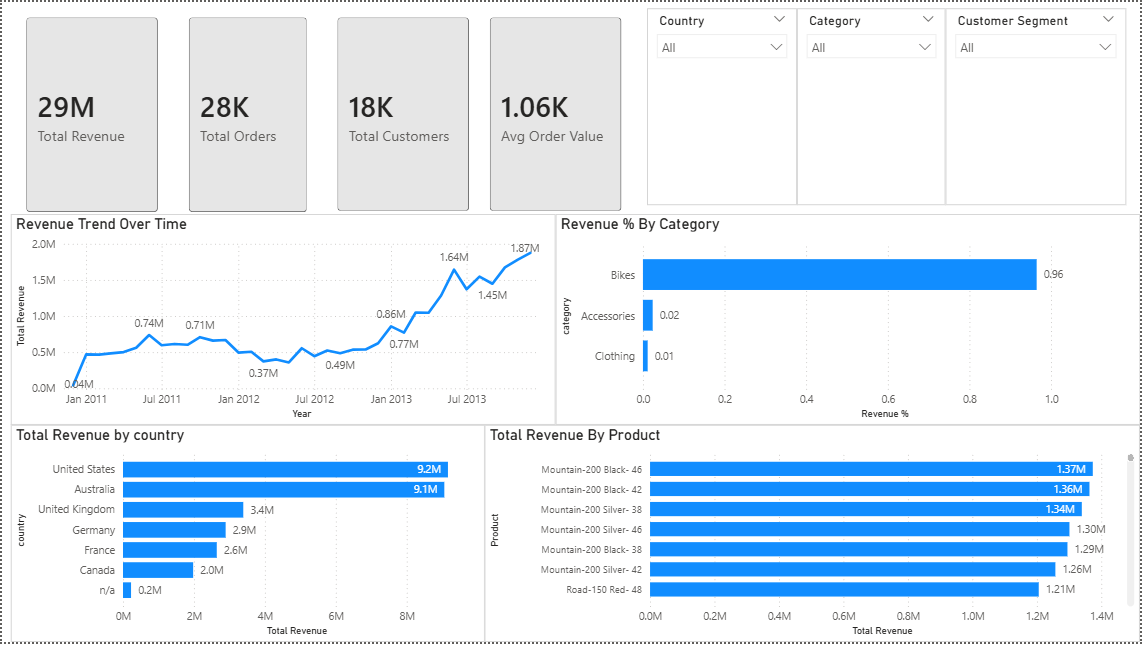

The dashboard page shown, as its layout file describes it:
{"tool":"powerbi","page":{"name":"Exxecutive Overview","canvas":[1280,720],"ordinal":0},"visuals":[{"type":"cardVisual","fields":{"Data":["fact_sales.Total_Revenue"]},"box":[9.9,0,183,253.3],"z":0},{"type":"cardVisual","fields":{"Data":["fact_sales.Total Orders"]},"box":[192.8,0,167.5,253.3],"z":1000},{"type":"cardVisual","fields":{"Data":["fact_sales.Total Customers"]},"box":[360,0,182.9,252.9],"z":2000},{"type":"cardVisual","fields":{"Data":["fact_sales.Avg Order Value"]},"box":[531.4,0,182.9,252.9],"z":3000},{"type":"lineChart","title":"Revenue Trend Over Time","fields":{"Y":["fact_sales.Total Revenue"],"Category":["fact_sales.order_date.Variation.Date Hierarchy.Year","fact_sales.order_date.Variation.Date Hierarchy.Month"]},"box":[10,238.6,612.9,237.1],"z":4000},{"type":"clusteredBarChart","fields":{"Category":["dim_customers.country"],"Y":["fact_sales.Total Revenue"]},"box":[10,475.7,532.9,244.3],"z":5000},{"type":"clusteredBarChart","title":"Total Revenue By Product","fields":{"Category":["dim_products.product_name"],"Y":["fact_sales.Total Revenue"]},"box":[542.9,475.7,737.1,244.3],"z":6000},{"type":"clusteredBarChart","title":"Revenue % By Category","fields":{"Category":["dim_products.category"],"Y":["customer_rfm data.Revenue %"]},"box":[622.9,238.6,657.1,237.1],"z":7000},{"type":"slicer","fields":{"Values":["dim_customers.country"]},"box":[725.7,7.1,168.6,221.4],"z":8000},{"type":"slicer","fields":{"Values":["dim_products.category"]},"box":[894.3,7.1,167.1,221.4],"z":9000},{"type":"slicer","fields":{"Values":["customer_rfm data.segment"]},"box":[1061.4,7.1,202.9,221.4],"z":10000}]}

Visuals, with their boxes in screenshot pixels (x1, y1, x2, y2), scaled from the page's 1280x720 canvas onto the 1143x646 screenshot:
cardVisual - fact_sales.Total_Revenue: bbox=(9, 0, 172, 227)
cardVisual - fact_sales.Total Orders: bbox=(172, 0, 322, 227)
cardVisual - fact_sales.Total Customers: bbox=(321, 0, 485, 227)
cardVisual - fact_sales.Avg Order Value: bbox=(475, 0, 638, 227)
"Revenue Trend Over Time" lineChart: bbox=(9, 214, 556, 427)
clusteredBarChart - dim_customers.country x fact_sales.Total Revenue: bbox=(9, 427, 485, 645)
"Total Revenue By Product" clusteredBarChart: bbox=(485, 427, 1142, 645)
"Revenue % By Category" clusteredBarChart: bbox=(556, 214, 1142, 427)
slicer - dim_customers.country: bbox=(648, 6, 799, 205)
slicer - dim_products.category: bbox=(799, 6, 948, 205)
slicer - customer_rfm data.segment: bbox=(948, 6, 1129, 205)
